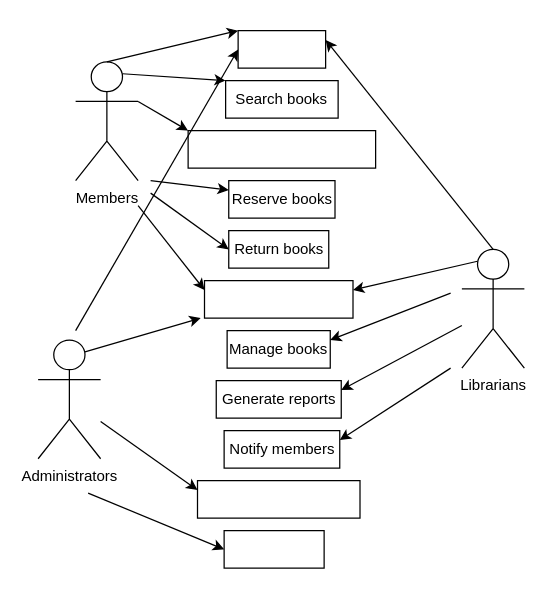
Image size: 548x590. Some labels were removed from this diagram. Here are the shapes that lost their labels. From the top down, the centre of each, then its label:
(281,48): Log In
(281,148): View borrowing information
(278,298): Receive notifications
(278,498): Manage users accounts
(273,548): Set penalties
